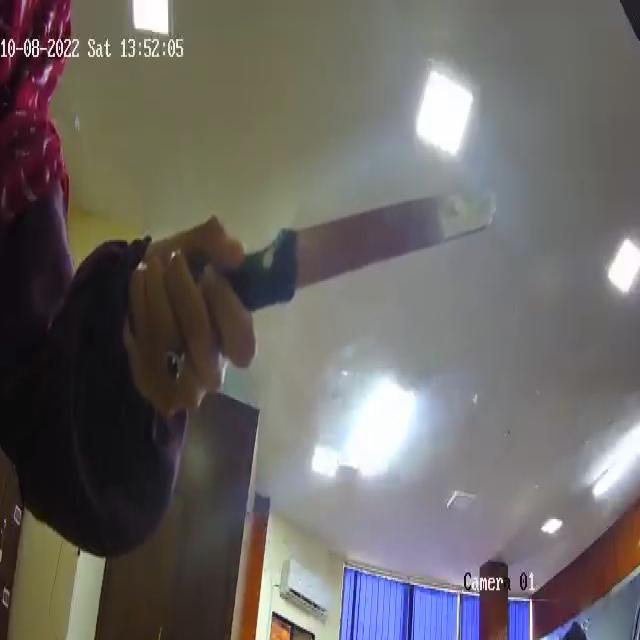Knife: (190, 152, 532, 326)
